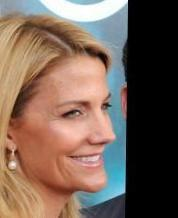face: (57, 98, 116, 171)
